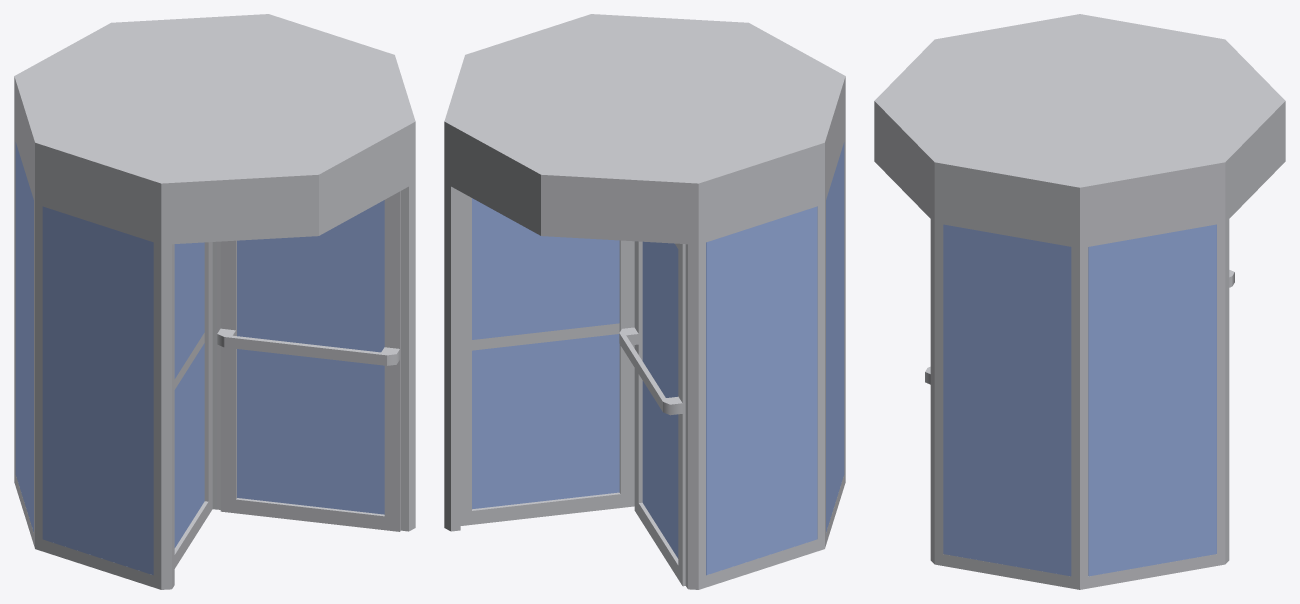
Rendered from revolving_door.fbx.
The picture shows the model from 3 angles, left to right: view 1: azimuth 30°, elevation 25°; view 2: azimuth 150°, elevation 25°; view 3: azimuth 270°, elevation 25°; orthographic projection.
Parts seen in each view (by area): view 1: revolving_door; view 2: revolving_door; view 3: revolving_door.
Boxes of the visible parts, x1,y1,x2,y2 form: revolving_door: (14,14,415,589); revolving_door: (444,14,845,589); revolving_door: (874,14,1285,589).
Bounding box in the file's own units: 0.02 × 0.0216 × 0.02.
Materials: 1 (1 with a texture image).
